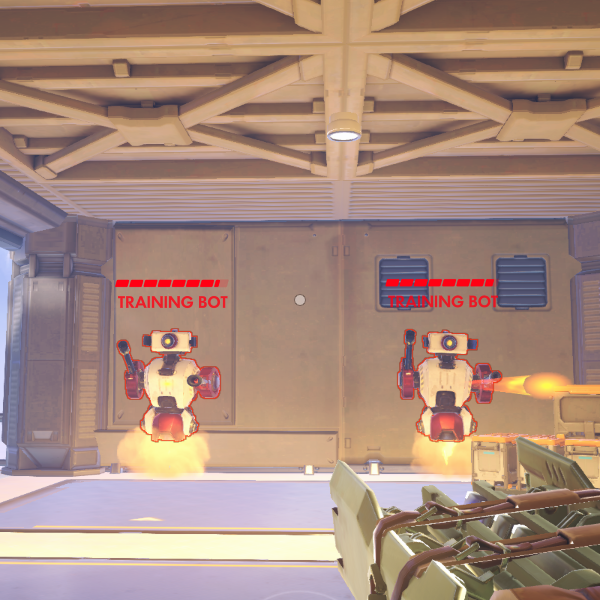hpbar: (115, 279, 229, 289), (385, 278, 500, 287)
